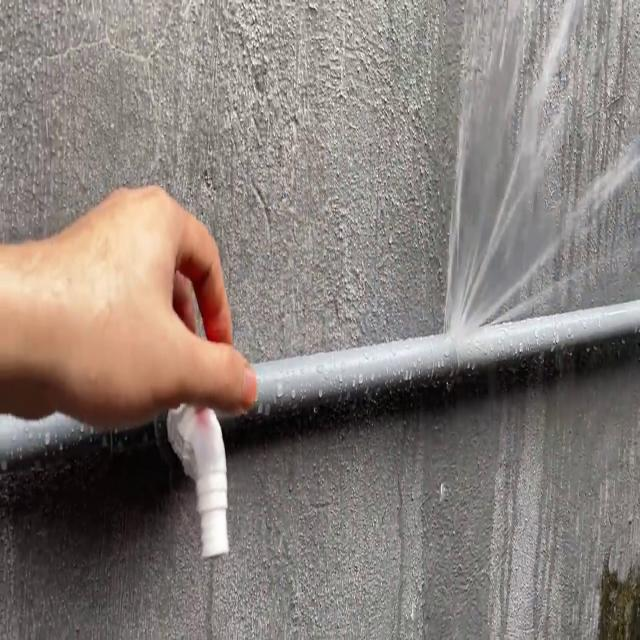leak: (441, 0, 640, 338)
